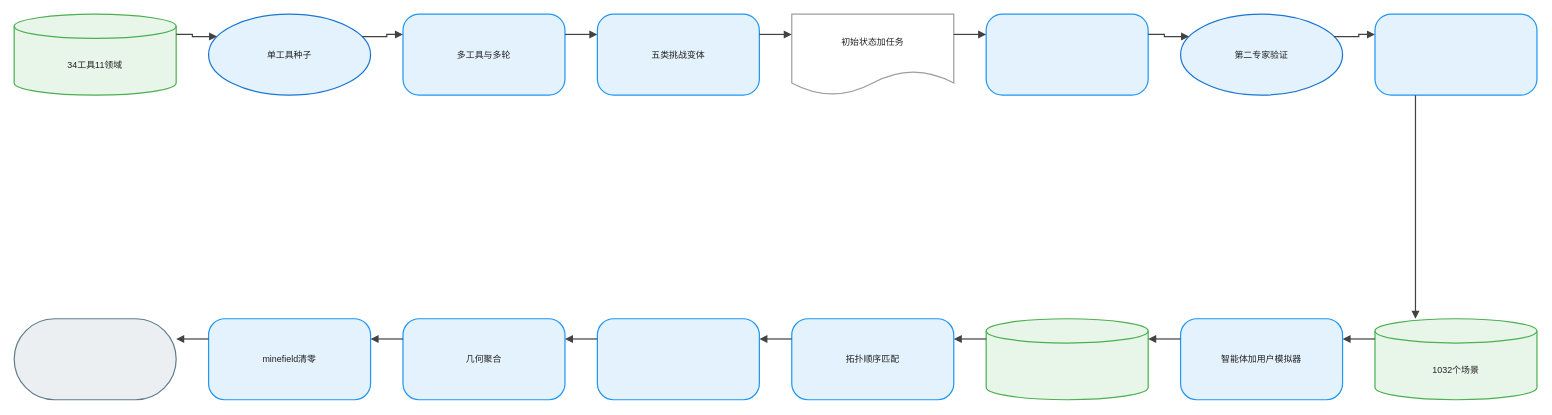
This 1552x415 diagram has some shape labels left out. Each missing label, with the centre of its shape:
"状态快照" belongs at (x=1066, y=359).
"类别相似度" belongs at (x=94, y=359).
"精确/ROUGE-L/AST" belongs at (x=678, y=359).
"至少四轮模型迭代" belongs at (x=1455, y=54).
"里程碑DAG加minefield" belongs at (x=1066, y=54).
